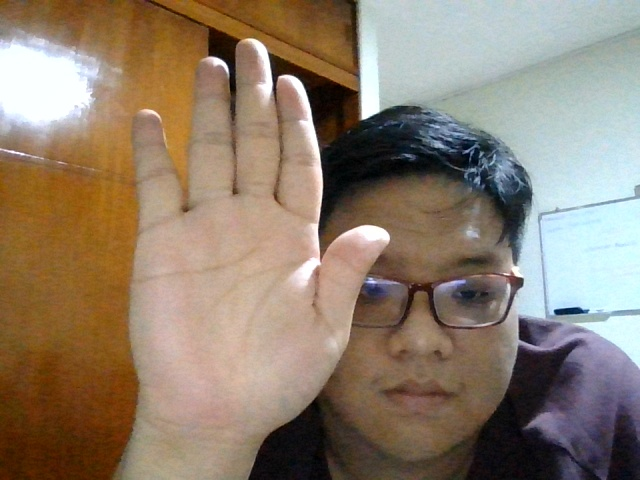hola: (106, 33, 391, 436)
